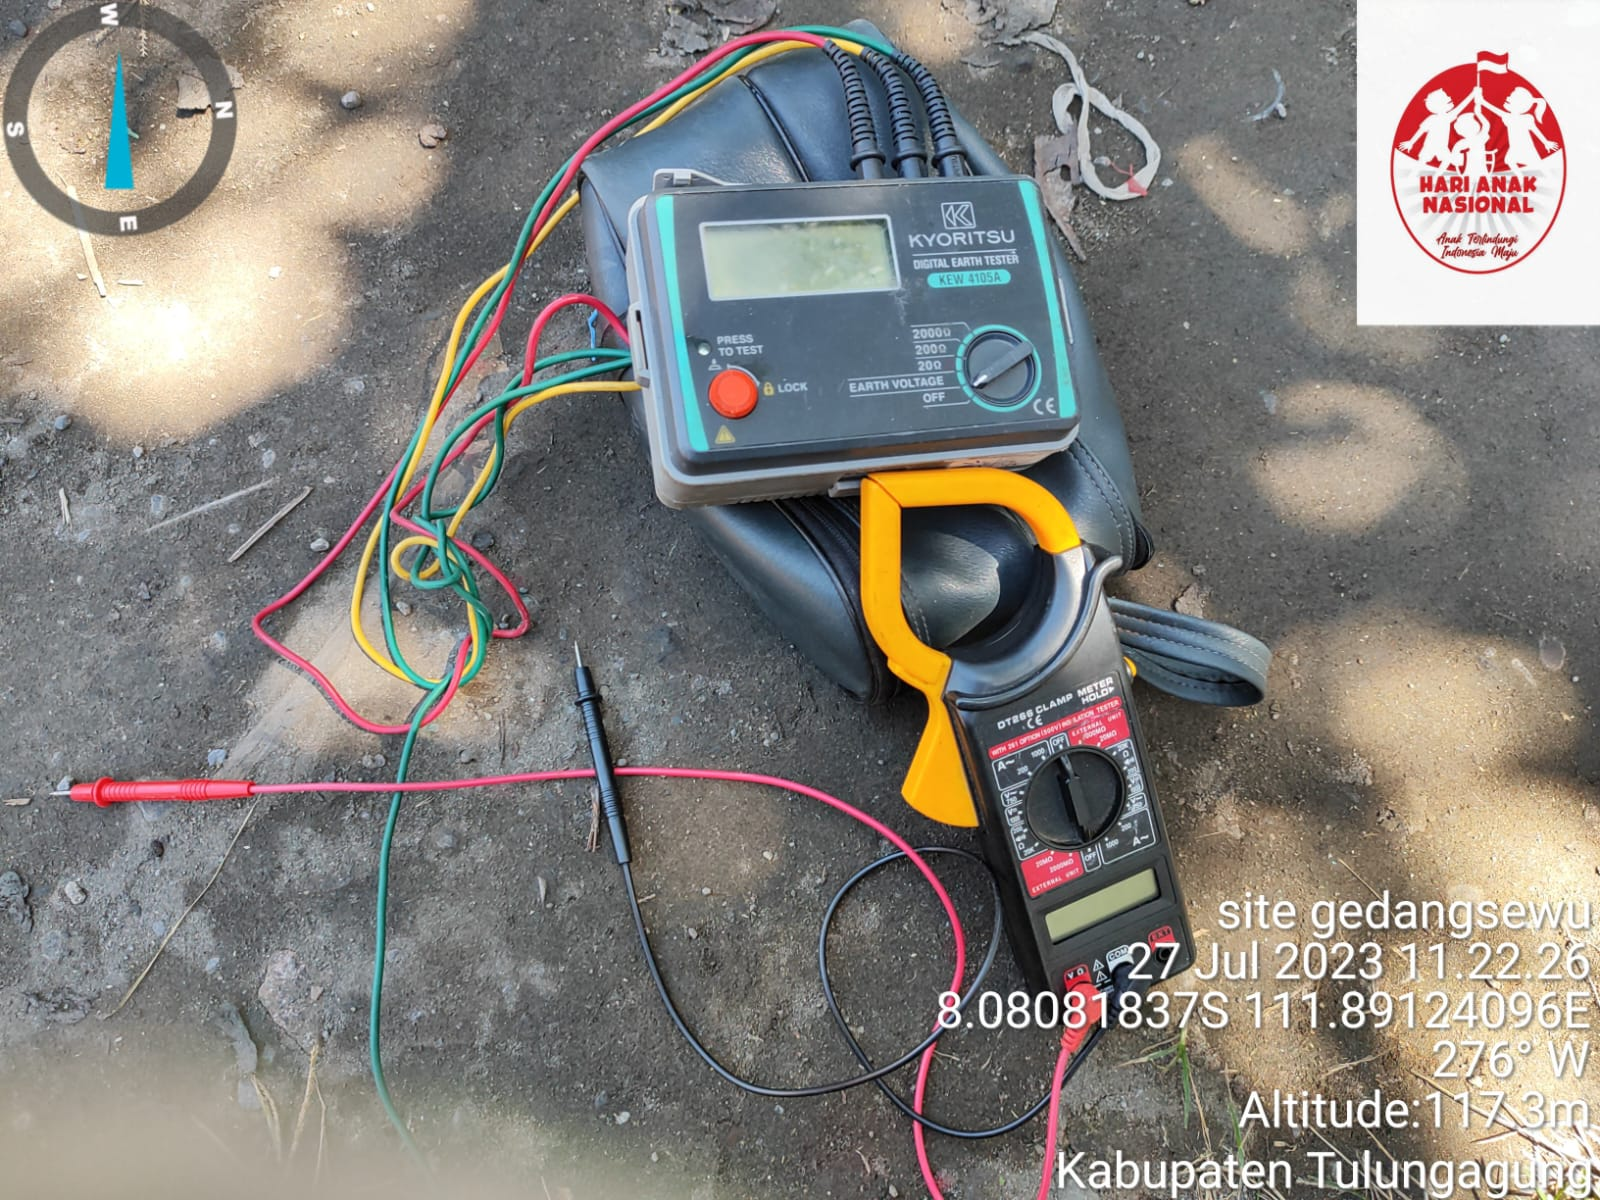EARTH_GROUNDING_TESTER: (626, 166, 1094, 473)
